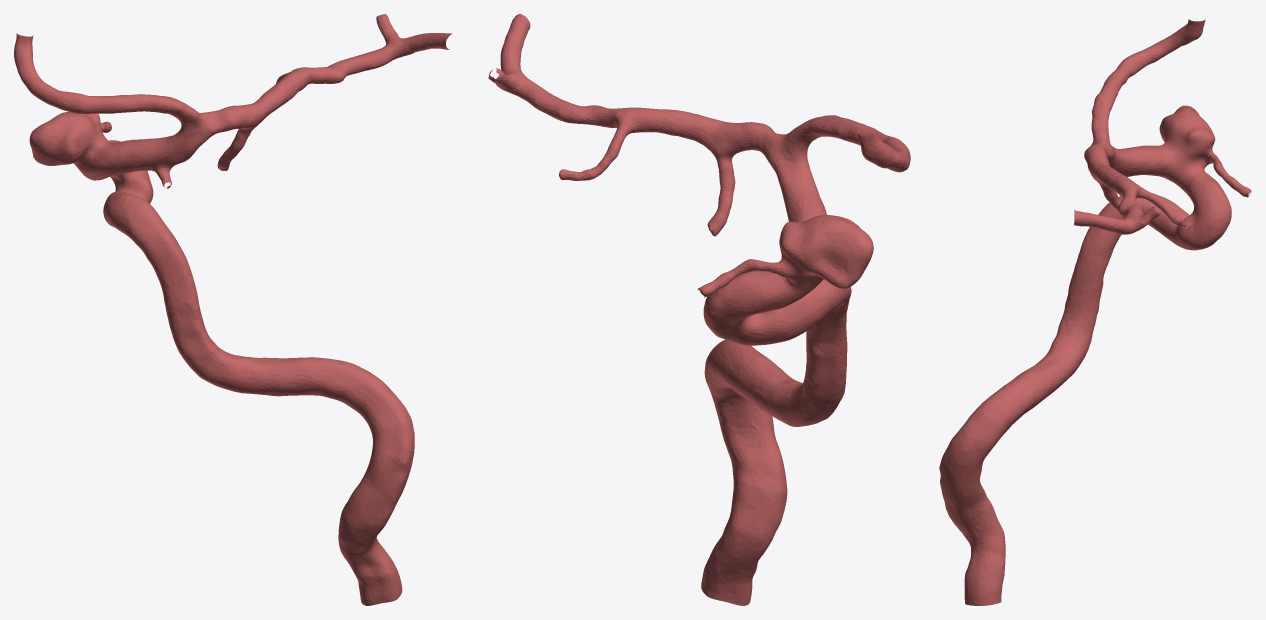
File: vessel_tree.glb
The picture shows the model from 3 angles, left to right: view 1: azimuth 30°, elevation 25°; view 2: azimuth 150°, elevation 25°; view 3: azimuth 270°, elevation 25°; orthographic projection. The views are drawn at different scales.
Visible parts, largest first — view 1: world; view 2: world; view 3: world.
Part boxes in pixels (left/top/right/bottom): world: left=14, top=14, right=452, bottom=605; world: left=488, top=14, right=910, bottom=605; world: left=939, top=19, right=1251, bottom=605.
Size of the model in its own units: 43.87 by 58.86 by 34.3.
